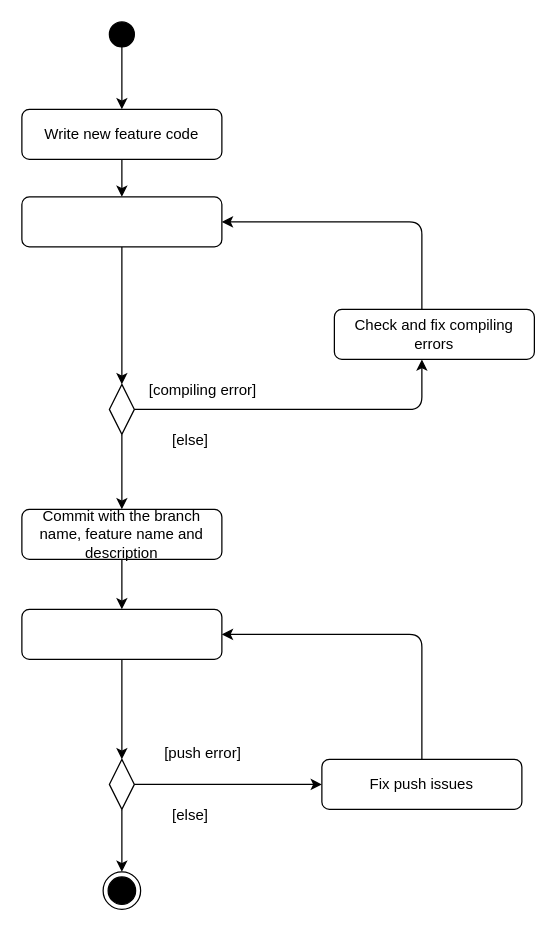
Image size: 556x931. Some labels were removed from this diagram. Here are the shapes that lost their labels. From the top down, the centre of each, then its label:
At point 121,221: "Build in PlatformIO test mode".
At point 121,633: "Git push".
